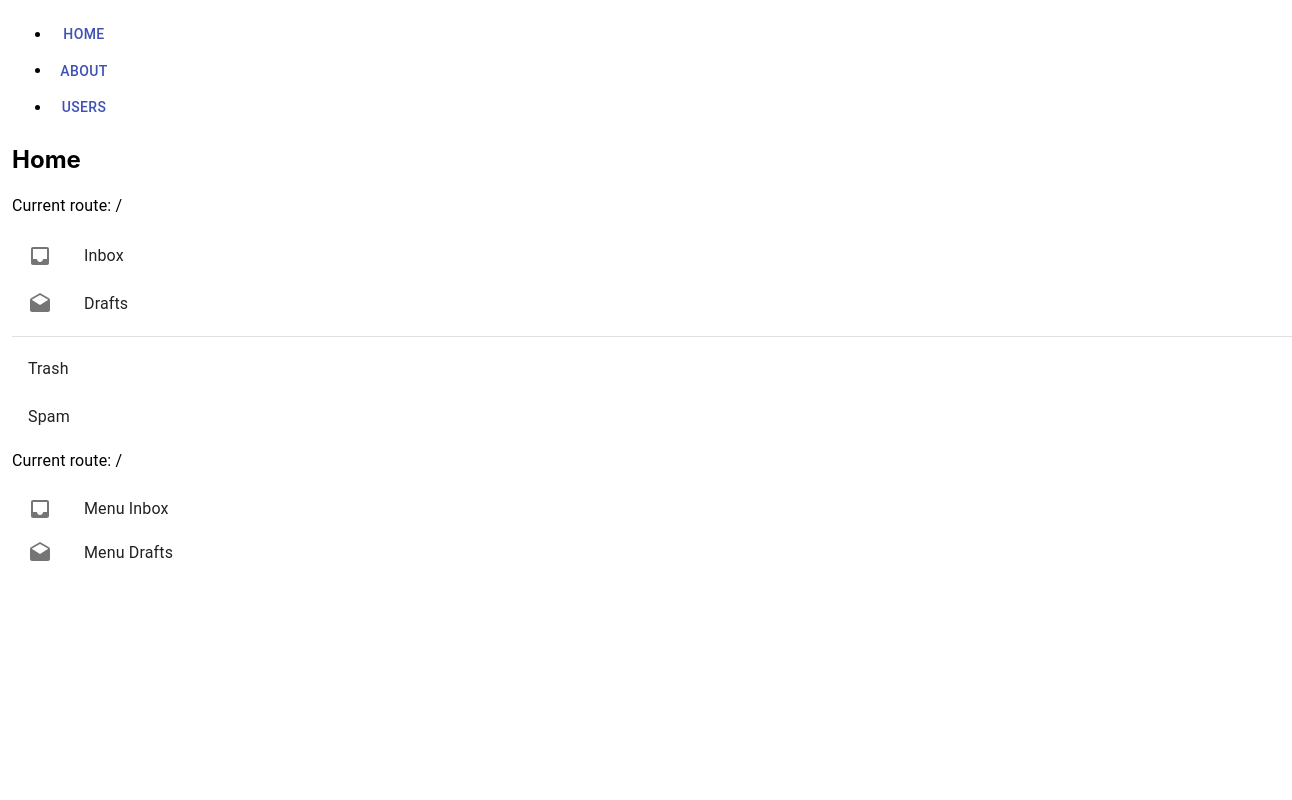
Test: My First Test › navigates to drafts
Click the button with test id "drafts-link": [106, 303] box [28,292,128,316]
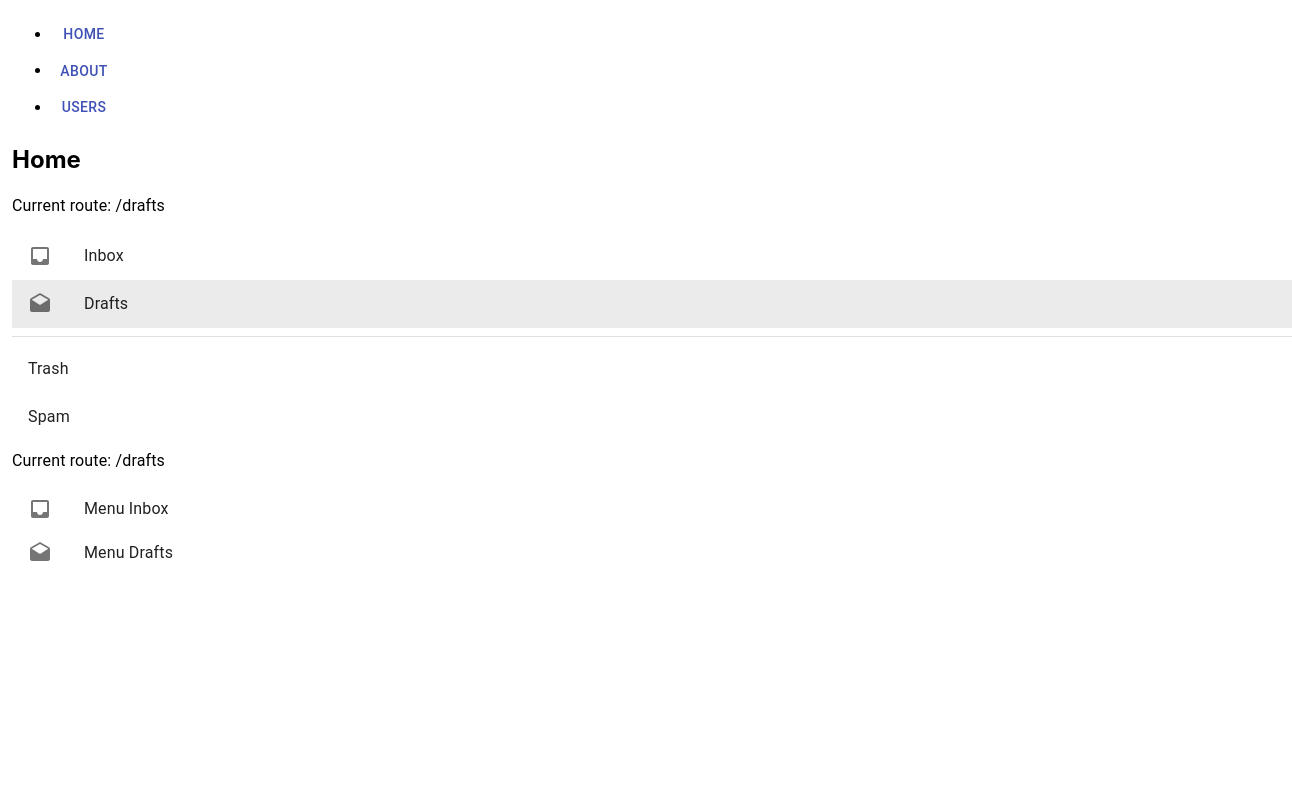
Result: the 1st text with test id "drafts" shows "drafts" at [115,196,165,215]
